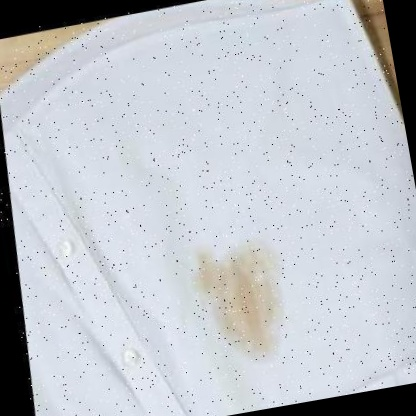coffee: (213, 251, 284, 353)
